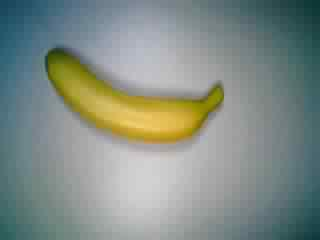banana: (43, 44, 224, 147)
